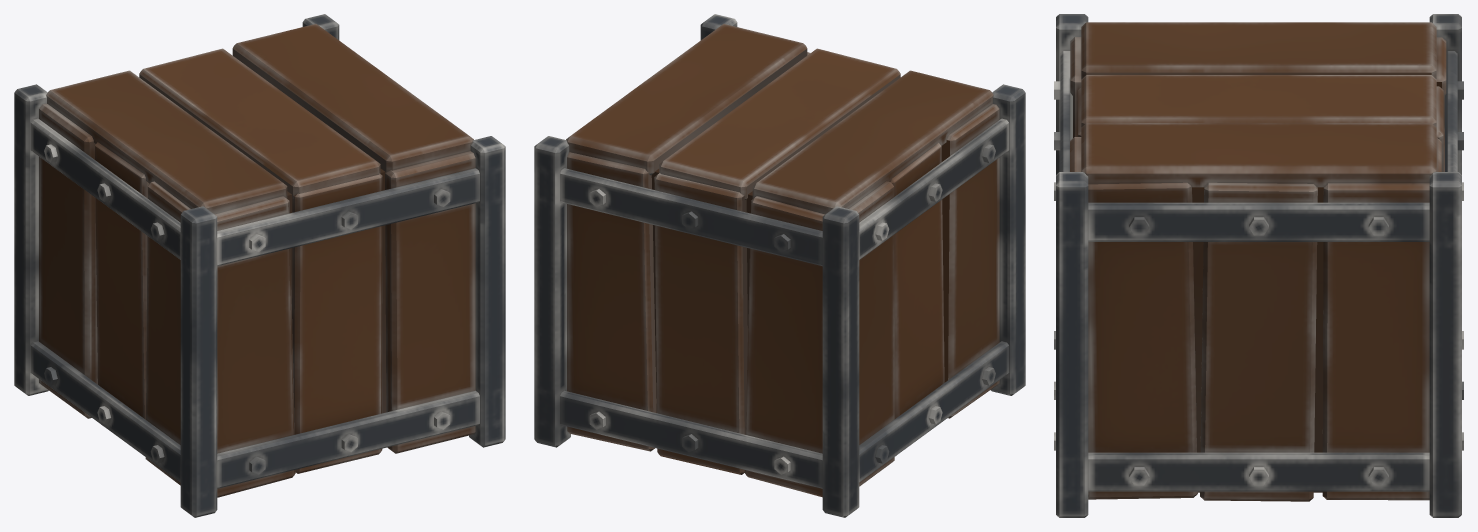
The model's file is test_crate.glb.
3 renders of one model, left to right at view 1: azimuth 30°, elevation 25°; view 2: azimuth 150°, elevation 25°; view 3: azimuth 270°, elevation 25°, orthographic. The views are drawn at different scales.
Parts seen in each view (by area): view 1: test_crate; view 2: test_crate; view 3: test_crate.
Boxes of the visible parts, x1,y1,x2,y2 form: test_crate: [14, 14, 505, 517]; test_crate: [534, 14, 1025, 517]; test_crate: [1054, 14, 1463, 517].
Bounding box in the file's own units: 1.13 × 1.03 × 1.13.
1 material, 1 textured.
